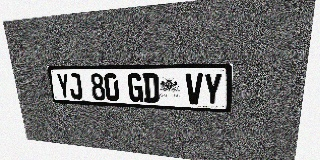0: (103, 73, 119, 101)
8: (90, 73, 106, 100)
D: (143, 73, 159, 103)
G: (127, 73, 144, 102)
J: (68, 73, 83, 99)
V: (185, 73, 203, 105)
Y: (203, 73, 222, 105), (56, 73, 71, 99)
